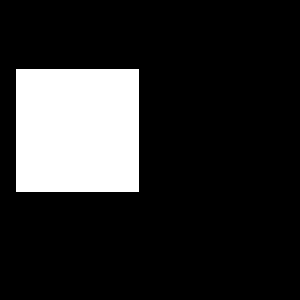circle: (16, 69, 139, 192)
